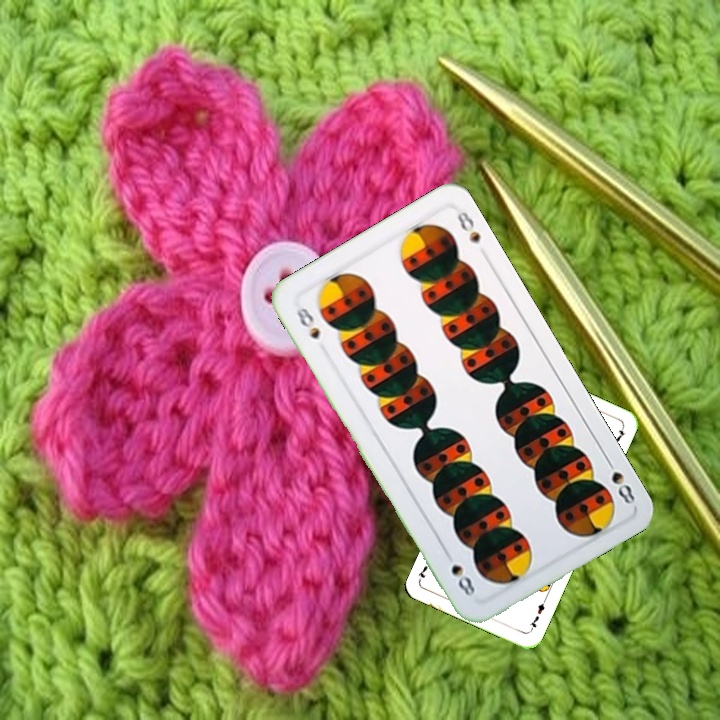E7: (525, 595, 548, 634)
S8: (601, 453, 638, 507), (292, 303, 323, 343)
